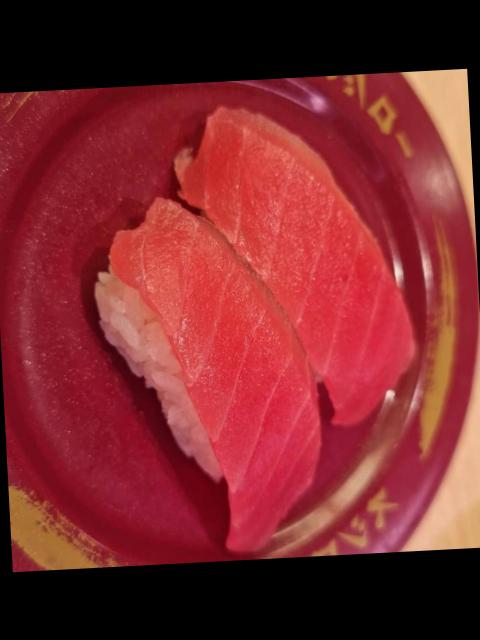janred: (0, 69, 470, 572)
